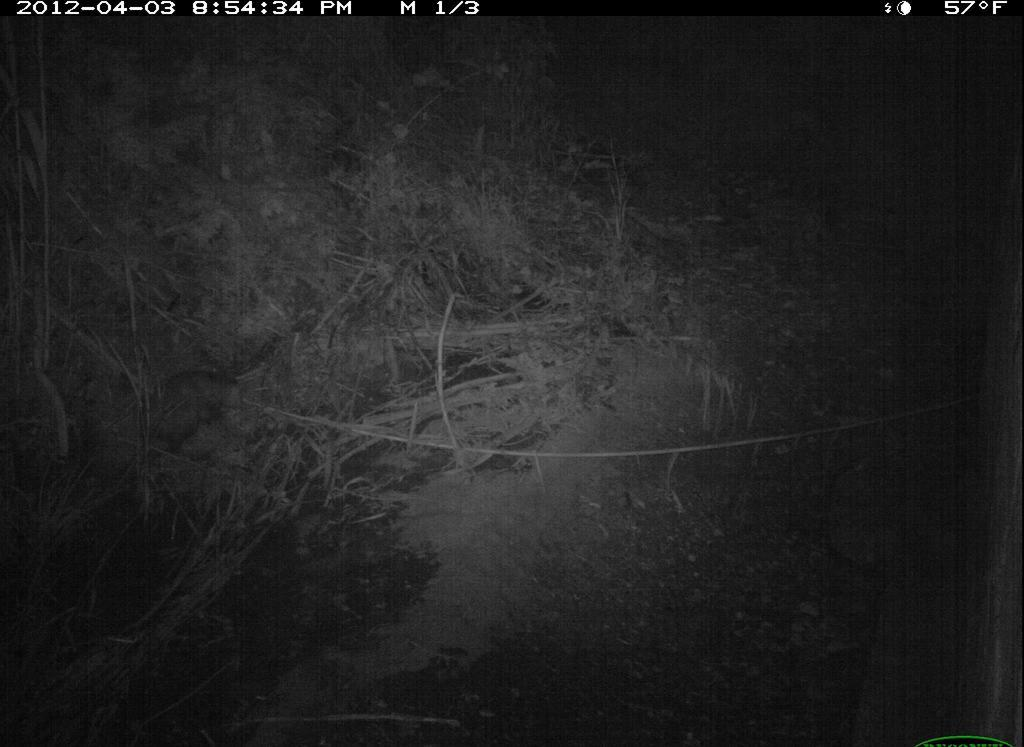opossum: (102, 332, 265, 475)
